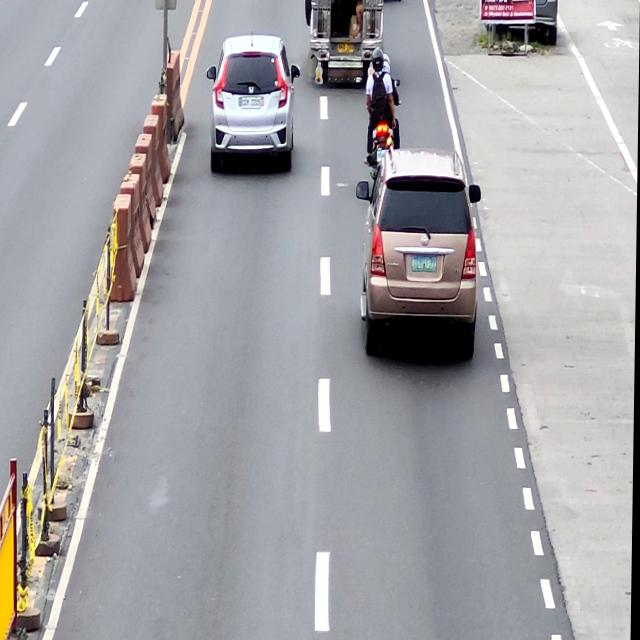Car: (355, 148, 484, 360), (206, 34, 302, 178)
Jeep: (307, 0, 384, 90)
License-Plate: (413, 256, 438, 272), (241, 96, 262, 109), (338, 44, 354, 56)
Motorcycle: (367, 80, 402, 154)
